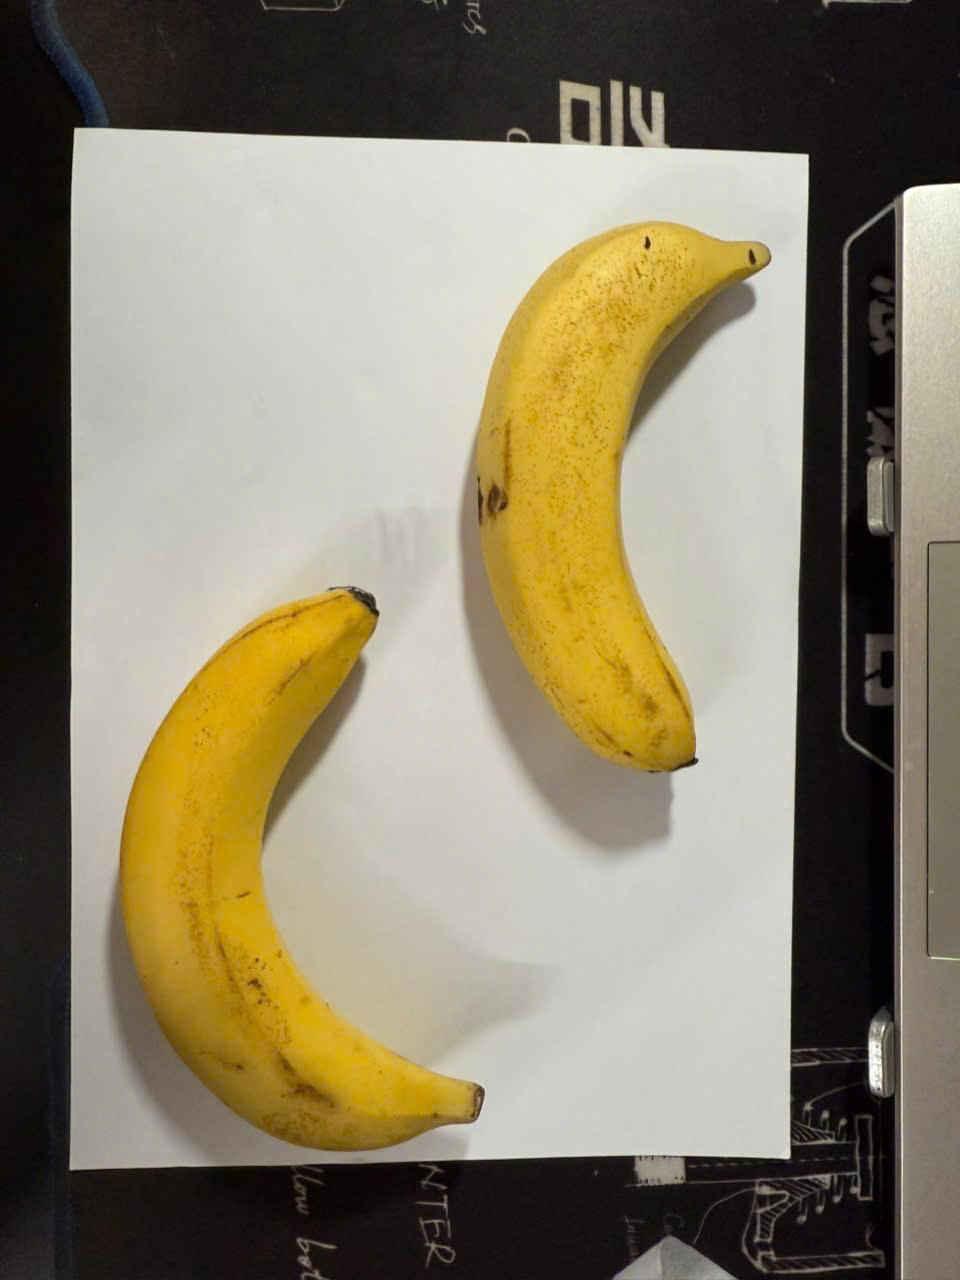banana: (108, 558, 508, 1158), (453, 206, 762, 798)
